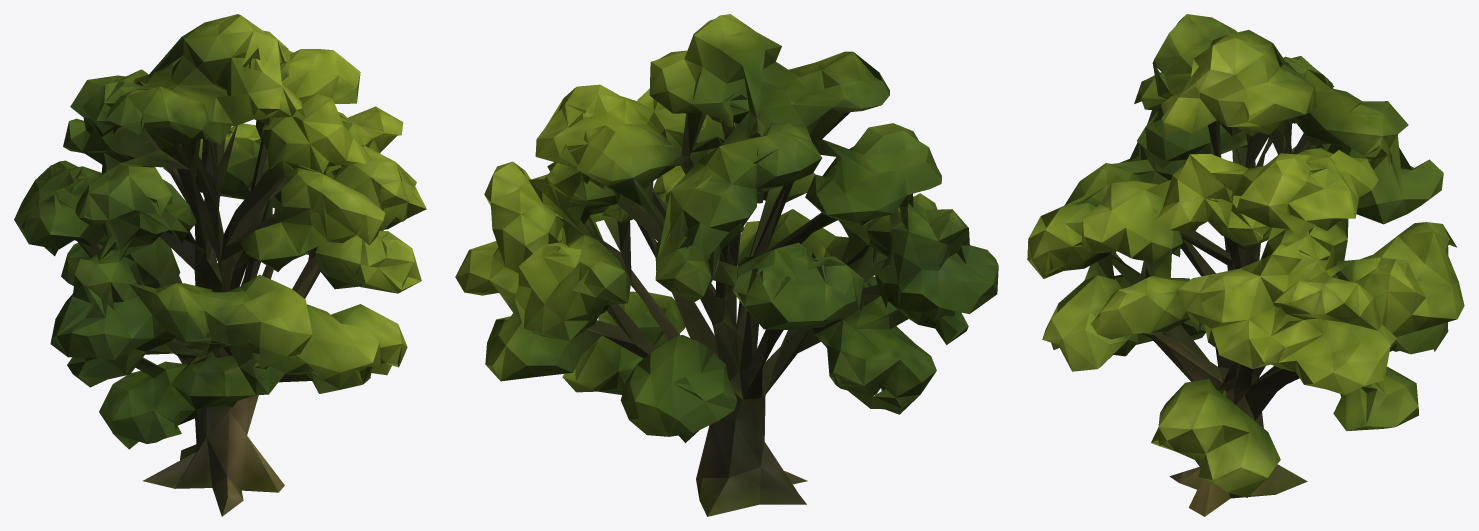
The model's file is deciduous-mid.glb.
3 renders of one model, left to right at view 1: azimuth 30°, elevation 25°; view 2: azimuth 150°, elevation 25°; view 3: azimuth 270°, elevation 25°, orthographic. The views are drawn at different scales.
Parts seen in each view (by area): view 1: tripo_node_ffcf1c52-261e-4917-8b29-8e1e13b1397a; view 2: tripo_node_ffcf1c52-261e-4917-8b29-8e1e13b1397a; view 3: tripo_node_ffcf1c52-261e-4917-8b29-8e1e13b1397a.
Part boxes in pixels (x1,y1,x2,y2): tripo_node_ffcf1c52-261e-4917-8b29-8e1e13b1397a: [14, 14, 426, 516]; tripo_node_ffcf1c52-261e-4917-8b29-8e1e13b1397a: [455, 14, 998, 516]; tripo_node_ffcf1c52-261e-4917-8b29-8e1e13b1397a: [1027, 14, 1464, 516].
Size of the model in its own units: 0.9277 by 0.9695 by 0.8256.
1 material, 1 textured.
